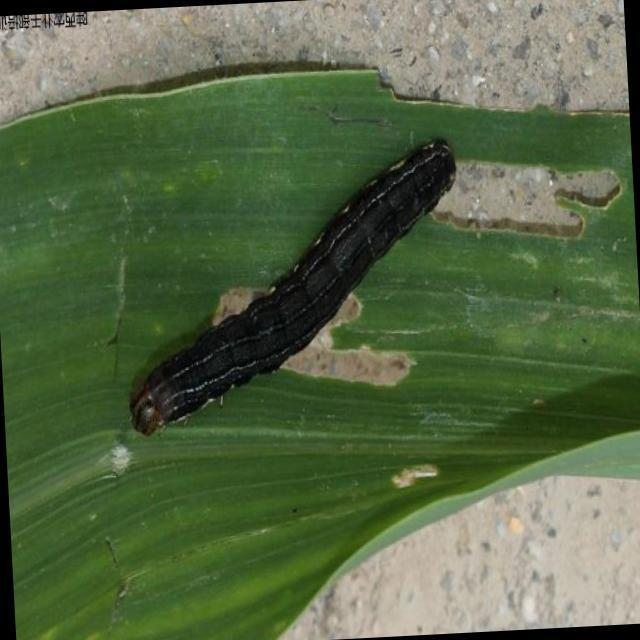pest: (136, 148, 441, 441)
